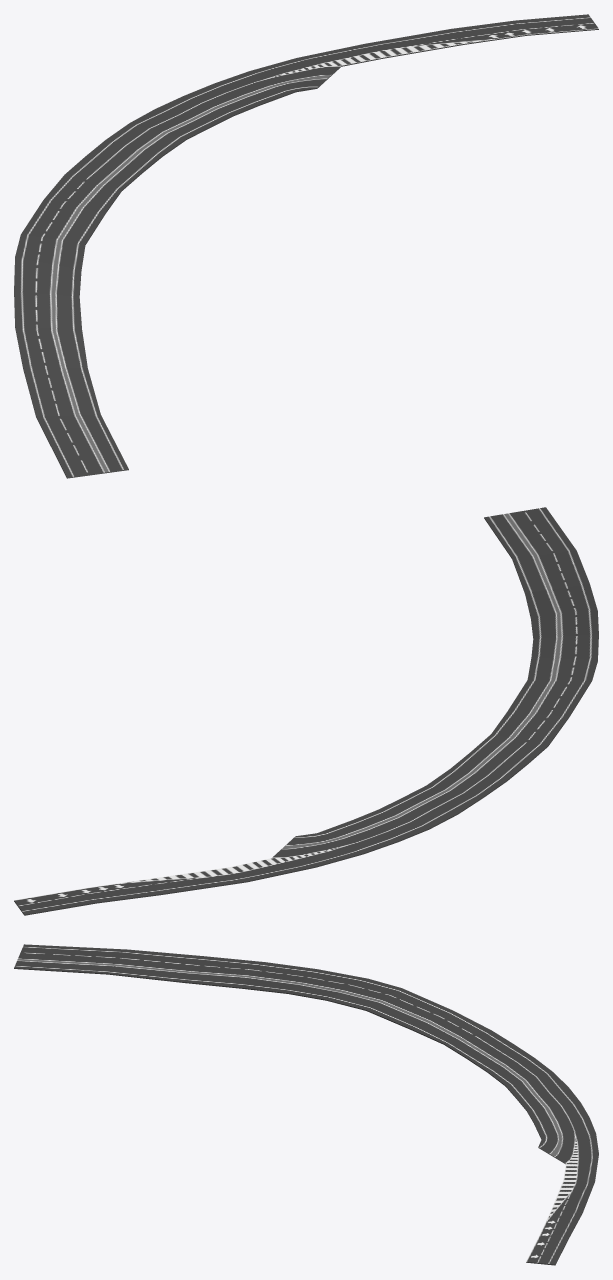
The model's file is točky.fbx.
3 views of the same model, one above another, from view 1: azimuth 30°, elevation 25°; view 2: azimuth 210°, elevation 25°; view 3: azimuth 270°, elevation 25° (orthographic). The views are drawn at different scales.
Visible parts, largest first — view 1: točky; view 2: točky; view 3: točky.
Part boxes in pixels (x1,y1,x2,y2): točky: (14,14,598,478); točky: (14,507,598,915); točky: (14,944,598,1265).
Size of the model in its own units: 12967 by 18030 by 760.
